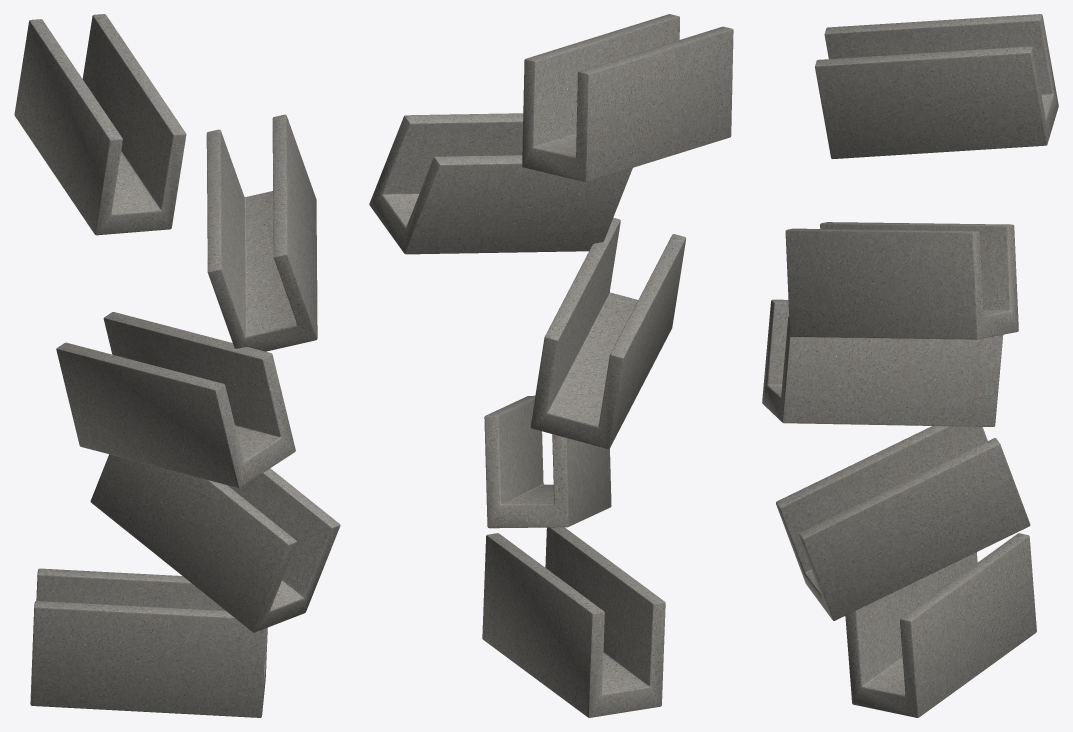
File: ALV-BCO-003_anim.glb
3 renders of one model, left to right at view 1: azimuth 30°, elevation 25°; view 2: azimuth 150°, elevation 25°; view 3: azimuth 270°, elevation 25°, orthographic. The views are drawn at different scales.
Parts seen in each view (by area): view 1: ALV-BCO-003_anim0, ALV-BCO-003_anim2, ALV-BCO-003_anim1, ALV-BCO-003_anim4, ALV-BCO-003_anim3; view 2: ALV-BCO-003_anim4, ALV-BCO-003_anim3, ALV-BCO-003_anim0, ALV-BCO-003_anim2, ALV-BCO-003_anim1; view 3: ALV-BCO-003_anim4, ALV-BCO-003_anim1, ALV-BCO-003_anim3, ALV-BCO-003_anim0, ALV-BCO-003_anim2.
Part boxes in pixels (left/top/right/bottom): ALV-BCO-003_anim0: left=30, top=568, right=267, bottom=717; ALV-BCO-003_anim2: left=56, top=312, right=295, bottom=487; ALV-BCO-003_anim1: left=90, top=454, right=340, bottom=632; ALV-BCO-003_anim4: left=14, top=14, right=186, bottom=235; ALV-BCO-003_anim3: left=206, top=114, right=317, bottom=351; ALV-BCO-003_anim4: left=522, top=14, right=733, bottom=182; ALV-BCO-003_anim3: left=369, top=113, right=632, bottom=254; ALV-BCO-003_anim0: left=482, top=527, right=665, bottom=717; ALV-BCO-003_anim2: left=530, top=217, right=685, bottom=448; ALV-BCO-003_anim1: left=484, top=395, right=611, bottom=528; ALV-BCO-003_anim4: left=815, top=14, right=1058, bottom=158; ALV-BCO-003_anim1: left=776, top=426, right=1030, bottom=620; ALV-BCO-003_anim3: left=785, top=222, right=1018, bottom=339; ALV-BCO-003_anim0: left=845, top=533, right=1036, bottom=717; ALV-BCO-003_anim2: left=762, top=299, right=1003, bottom=426.
Size of the model in its own units: 0.5651 by 1.22 by 0.5219.
Materials: 1 (1 with a texture image).
